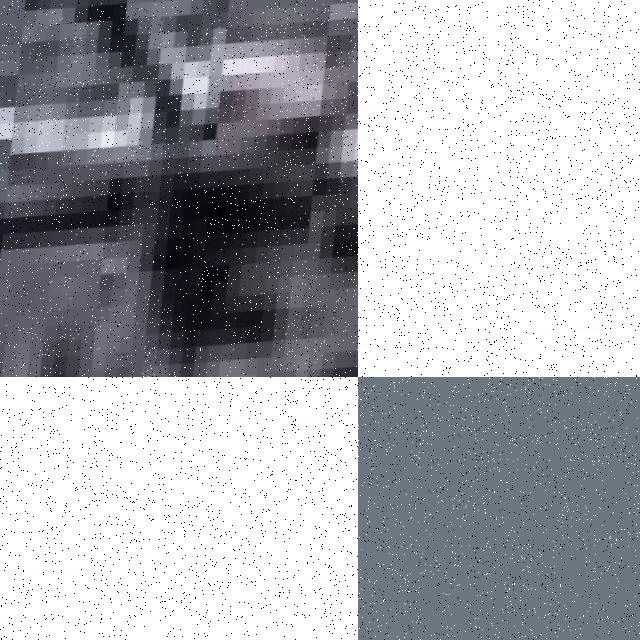drone: (0, 0, 358, 377), (358, 0, 640, 377)
